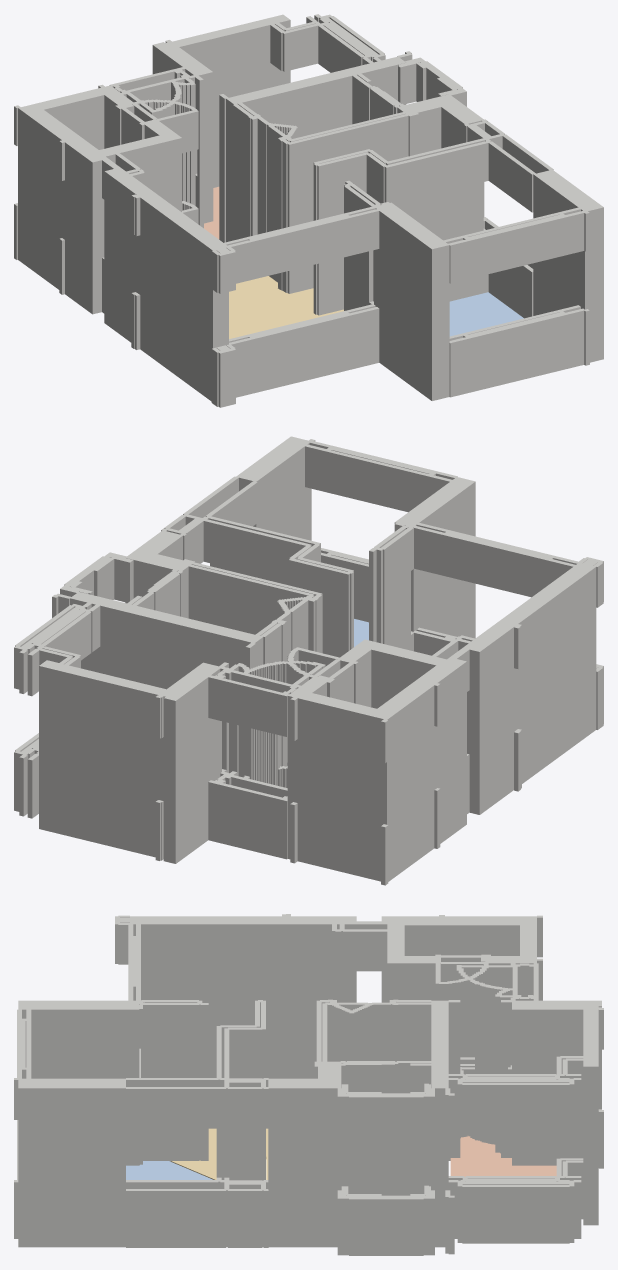
3 views of the same model, one above another, from view 1: azimuth 30°, elevation 25°; view 2: azimuth 150°, elevation 25°; view 3: azimuth 270°, elevation 25° (orthographic). The views are drawn at different scales.
Parts seen in each view (by area): view 1: walls, room:living:5, room:bedroom:6; view 2: walls; view 3: walls, room:kitchen:0, room:bedroom:6, room:living:5.
Boxes of the visible parts, x1,y1,x2,y2 form: walls: (14, 14, 603, 407); room:living:5: (229, 276, 343, 338); room:bedroom:6: (449, 292, 523, 336); walls: (14, 436, 603, 885); walls: (14, 914, 603, 1255); room:kitchen:0: (450, 1136, 556, 1176); room:bedroom:6: (126, 1161, 213, 1179); room:living:5: (170, 1128, 268, 1179).
Size of the model in its own units: 6.93 by 2.8 by 9.43.
